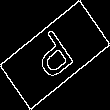P_SE: (28, 24, 82, 86)
